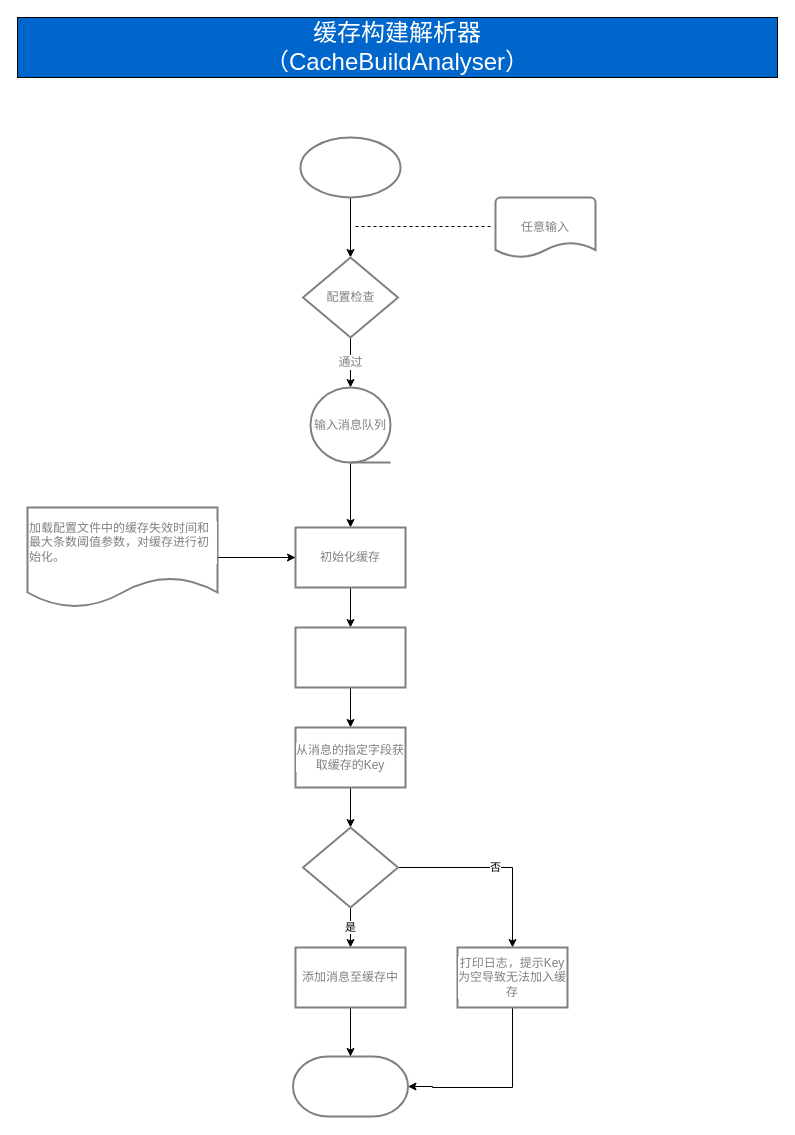
This 795x1135 diagram has some shape labels left out. Here are the shapes that lost their labels. From the top down, the centre of each, then its label:
At (x=350, y=167): "缓存构建开始".
At (x=350, y=657): "读取消息".
At (x=350, y=867): "Key不为空".
At (x=350, y=1086): "缓存构建结束".
